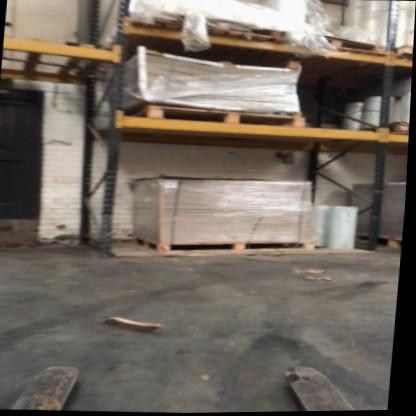vertical_damage: (100, 202, 125, 232)
